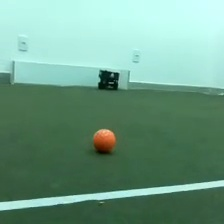ball: (91, 125, 117, 155)
goal: (10, 58, 131, 93)
robot: (96, 67, 120, 91)
